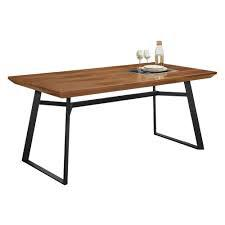desk: (4, 31, 218, 193)
